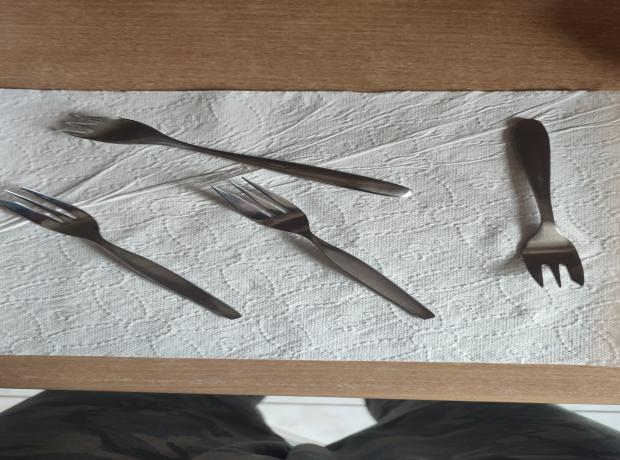metal: (1, 185, 242, 320), (210, 177, 437, 318), (47, 113, 416, 198), (512, 117, 588, 288)
